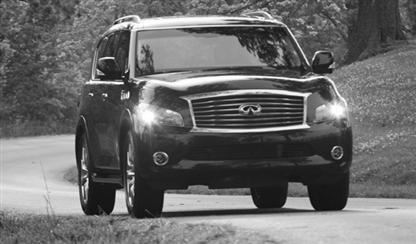car: (76, 15, 353, 216)
